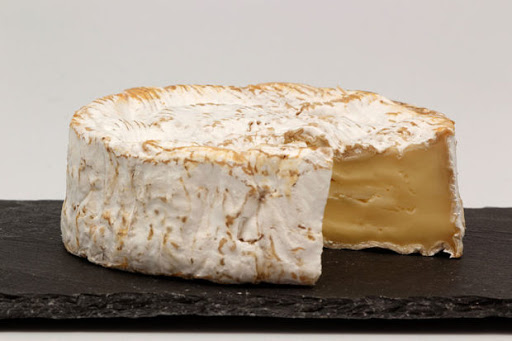camembert: (58, 81, 467, 287)
